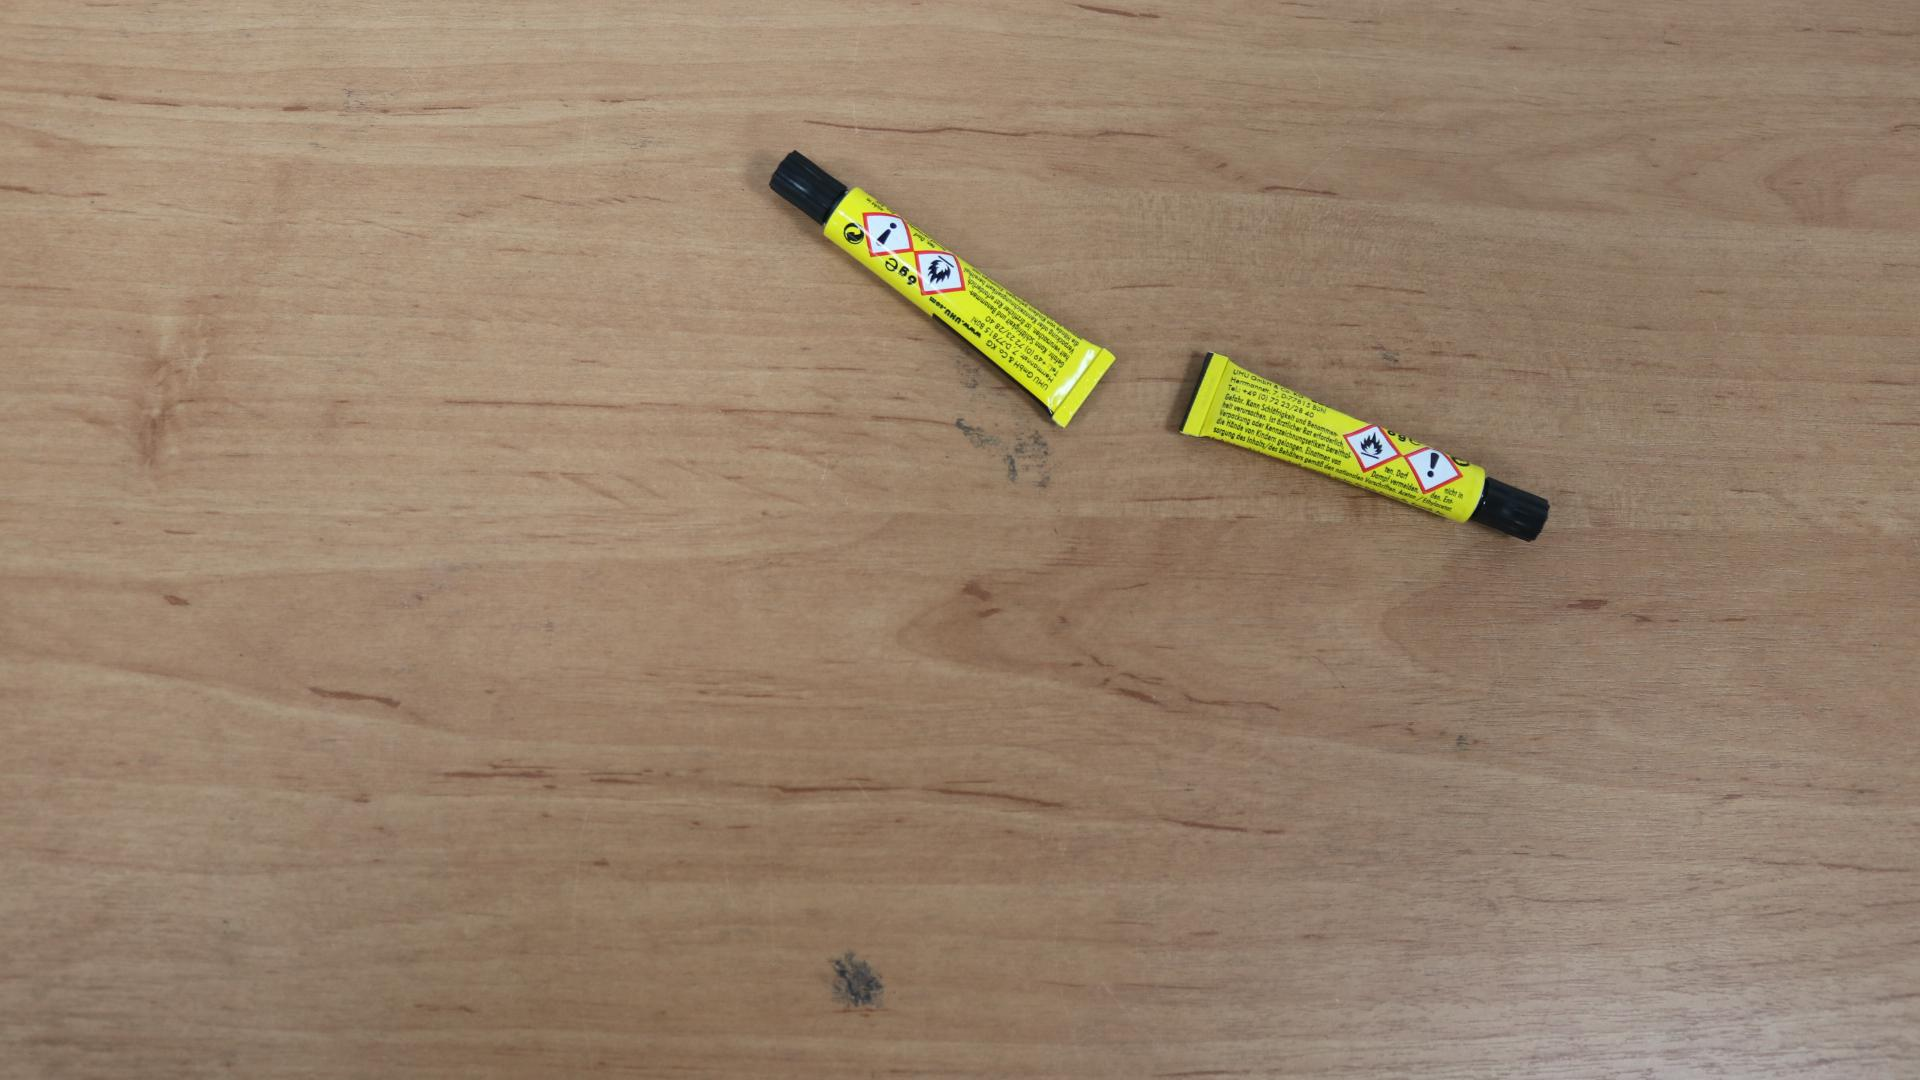Head: (804, 183, 808, 187), (1508, 506, 1512, 510)
Tail: (1081, 387, 1084, 390), (1203, 394, 1206, 397)
Tube: (769, 150, 1116, 429), (1178, 352, 1549, 543)
